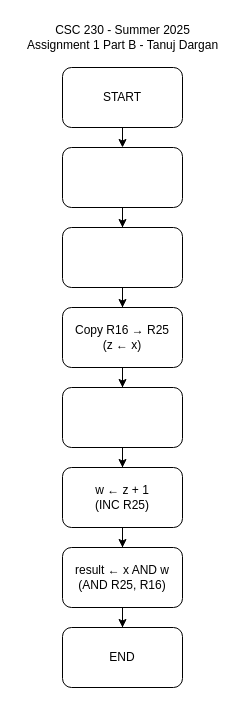
This 244x705 diagram has some shape labels left out. Each missing label, with the box of its shape:
Copy R16 → R17 (y ← x): (62, 146, 182, 208)
y ← y − 1 (SUBI R17, 1): (62, 226, 182, 288)
z ← z OR y (OR R25, R17): (62, 386, 182, 448)
